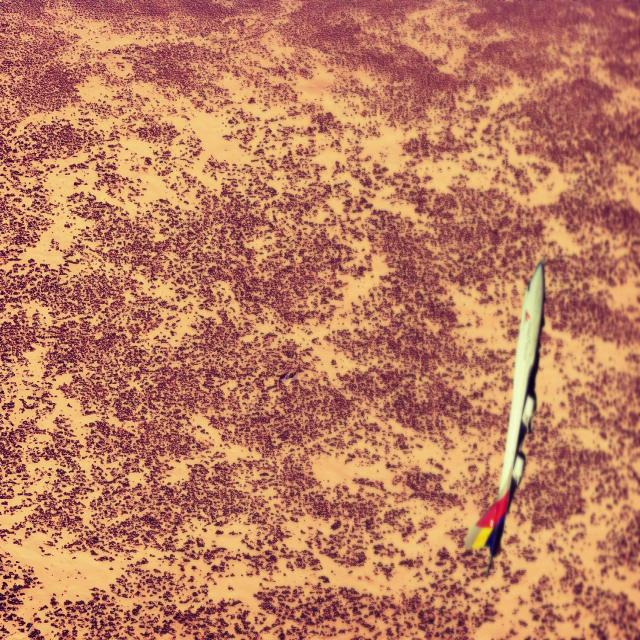airplane: (464, 259, 545, 560)
